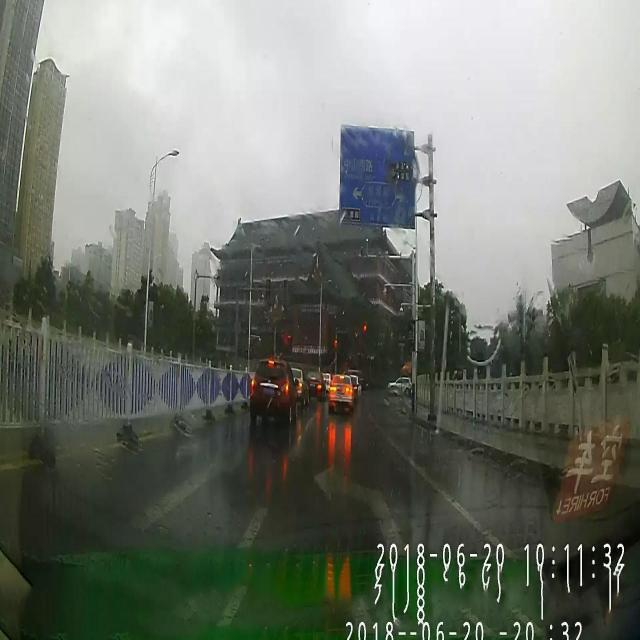car: (250, 361, 298, 426), (327, 373, 353, 413), (292, 368, 310, 414), (386, 374, 411, 398), (306, 372, 322, 404), (323, 374, 332, 394)
